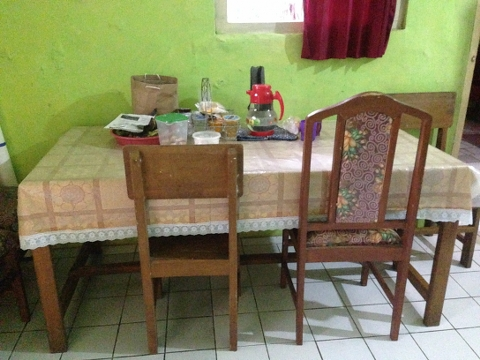kursi: (279, 91, 433, 347), (122, 143, 243, 351)
meja: (18, 124, 477, 353)
tempat minum: (223, 114, 240, 138)
